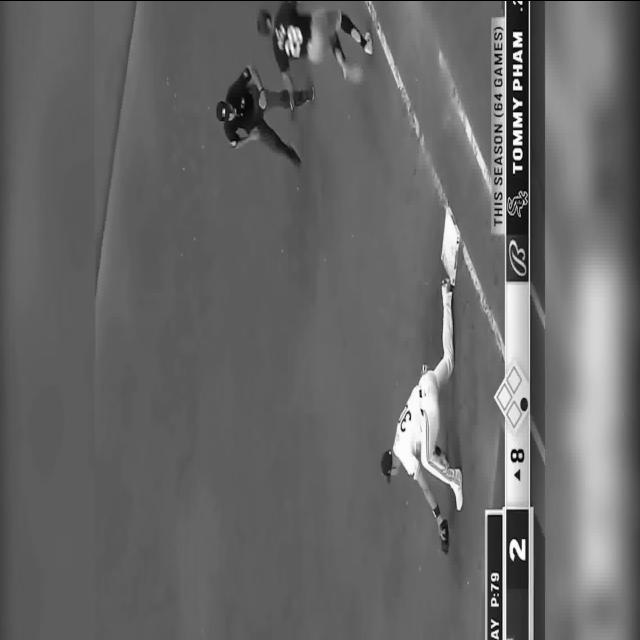base: (439, 210, 462, 276)
baseball_glove: (438, 518, 449, 554)
shoe: (451, 467, 463, 511), (342, 61, 362, 84), (280, 89, 294, 111), (288, 144, 300, 168), (364, 31, 374, 55), (441, 277, 454, 293), (306, 86, 314, 102)
